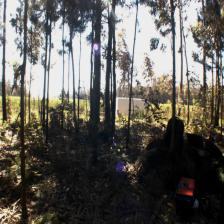trunktrack_idkeyframe: (90, 32, 100, 148), (19, 75, 27, 215), (104, 32, 111, 132), (170, 52, 176, 148), (2, 32, 7, 122), (72, 80, 78, 132), (45, 79, 49, 144)
